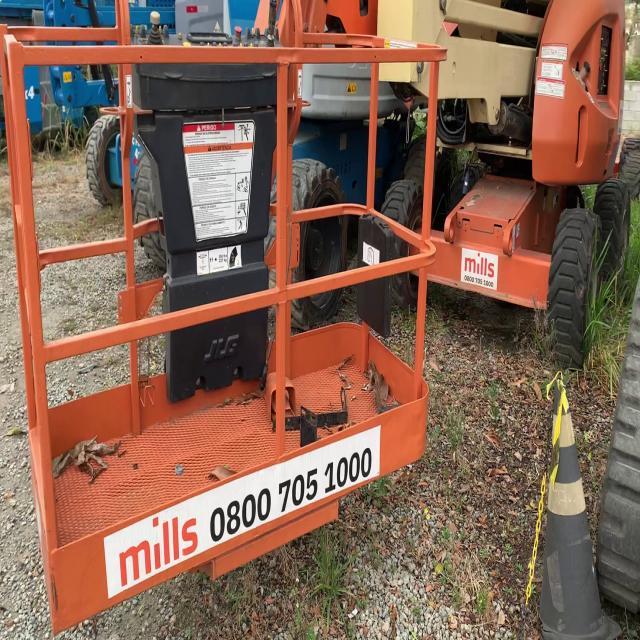Adesivo Longo: (102, 419, 383, 608)
Adesivos: (459, 246, 499, 293)
